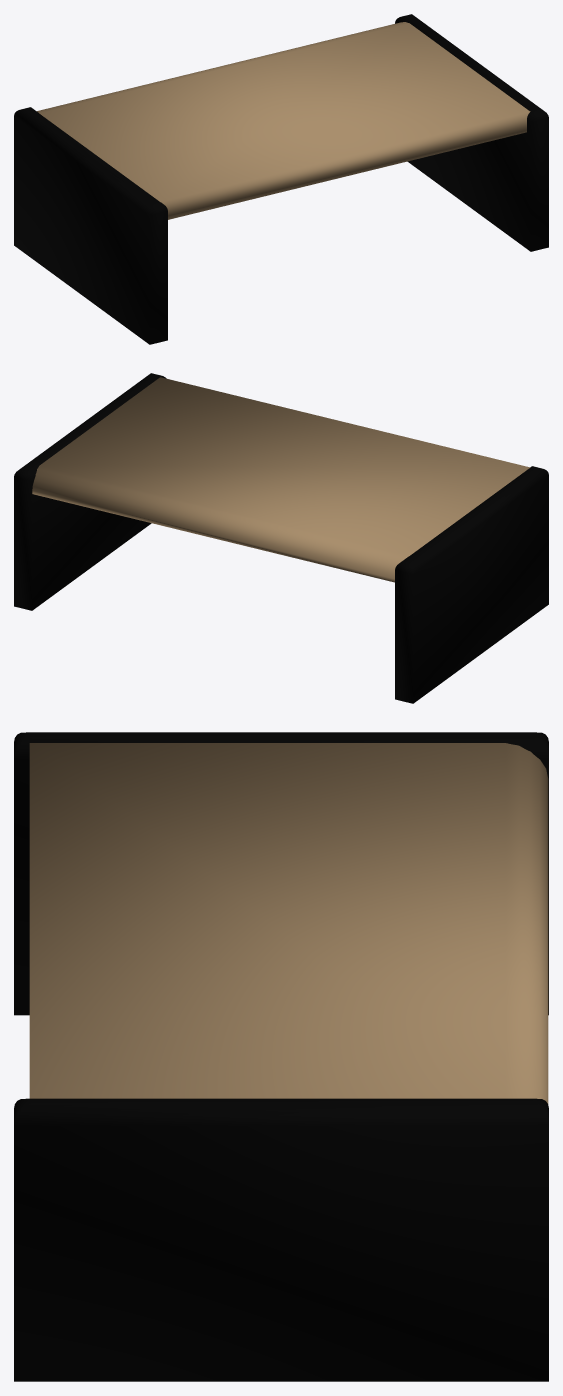
The model's file is desk.glb.
The picture shows the model from 3 angles, top to bottom: view 1: azimuth 30°, elevation 25°; view 2: azimuth 150°, elevation 25°; view 3: azimuth 270°, elevation 25°; orthographic projection. The views are drawn at different scales.
Parts seen in each view (by area): view 1: Cube; view 2: Cube; view 3: Cube.
Part boxes in pixels (bbox=[...]): Cube: bbox=[14, 14, 548, 344]; Cube: bbox=[14, 373, 548, 703]; Cube: bbox=[14, 732, 548, 1381].
Size of the model in its own units: 4.19 by 1.38 by 2.47.
